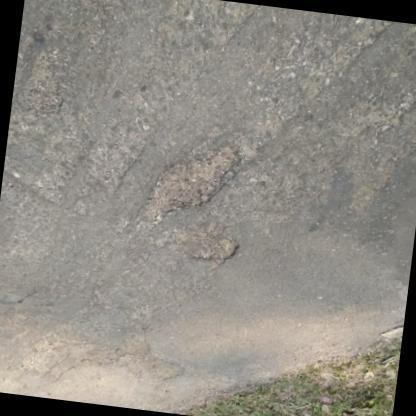pothole: (121, 136, 252, 226), (28, 329, 183, 401), (7, 36, 79, 138), (336, 83, 416, 150), (159, 223, 244, 266)
